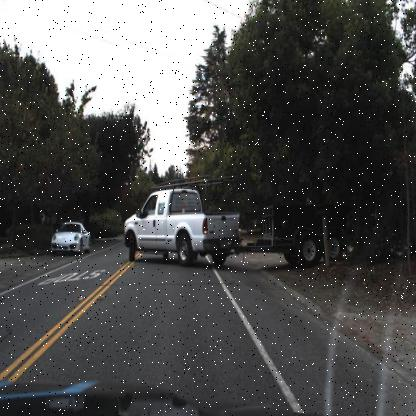car: (122, 186, 356, 262), (49, 221, 87, 257)
